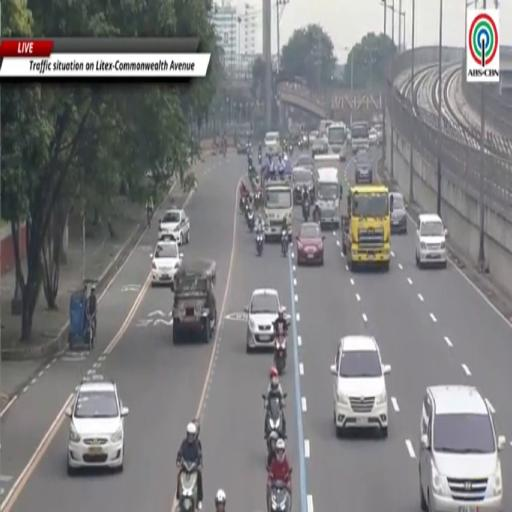car: (419, 386, 506, 511), (331, 335, 390, 437), (66, 380, 128, 474), (171, 260, 217, 344), (245, 288, 281, 353), (415, 214, 447, 268), (152, 238, 183, 286), (296, 222, 325, 265), (158, 210, 190, 245), (292, 167, 314, 204), (390, 192, 407, 233), (355, 151, 372, 184), (312, 137, 328, 156), (295, 155, 313, 169), (375, 124, 383, 145), (237, 140, 247, 154), (369, 128, 377, 145), (309, 131, 318, 145), (347, 128, 351, 145)
motorcycle: (262, 393, 287, 455), (177, 460, 197, 511), (268, 480, 291, 511), (274, 334, 287, 375), (256, 232, 264, 255), (302, 198, 310, 221), (282, 231, 288, 257), (244, 200, 251, 222), (247, 210, 254, 232), (147, 207, 153, 229), (240, 195, 247, 213), (255, 190, 261, 209), (222, 141, 227, 157), (279, 167, 285, 180), (289, 144, 293, 155), (258, 153, 262, 164)
tricycle: (68, 279, 97, 350)
truck: (342, 185, 390, 270), (264, 181, 293, 241), (315, 167, 342, 230), (327, 122, 347, 161), (351, 122, 369, 152), (313, 154, 340, 173), (264, 132, 280, 155), (319, 120, 333, 136)
